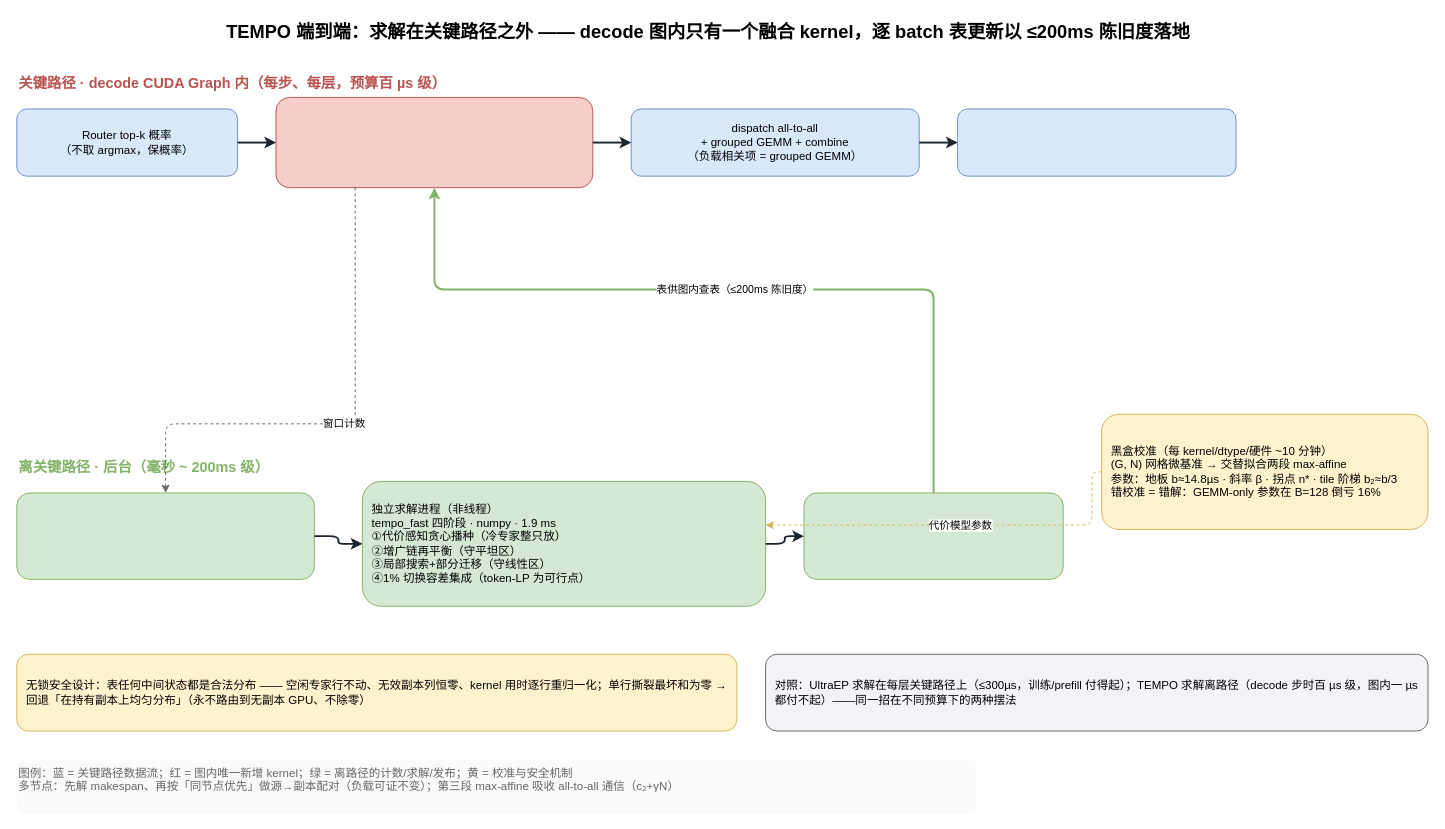
The diagram is 1445 pixels wide and 829 high, and some of its shapes have lost their labels. Each missing label, with the centre of its shape:
侧流快照 + 跨 rank 聚合 refresher 线程读累积计数器 gloo 组窗口差分（不碰主图）: point (165, 535)
层末同步 层时间 = max_g t_g × ~60 层 瓶颈 GPU 常态 1.5–2× 均值: point (1096, 142)
融合 kernel（图内唯一新增） 概率分发：按 dispatch 表把 token 概率分到各副本 + 原子累积计数 （padding 行掩码，零清零内核）: point (434, 142)
表发布：pinned 暂存 → 一次 H2D 拷贝 逻辑→物理 dispatch 表: point (933, 535)
